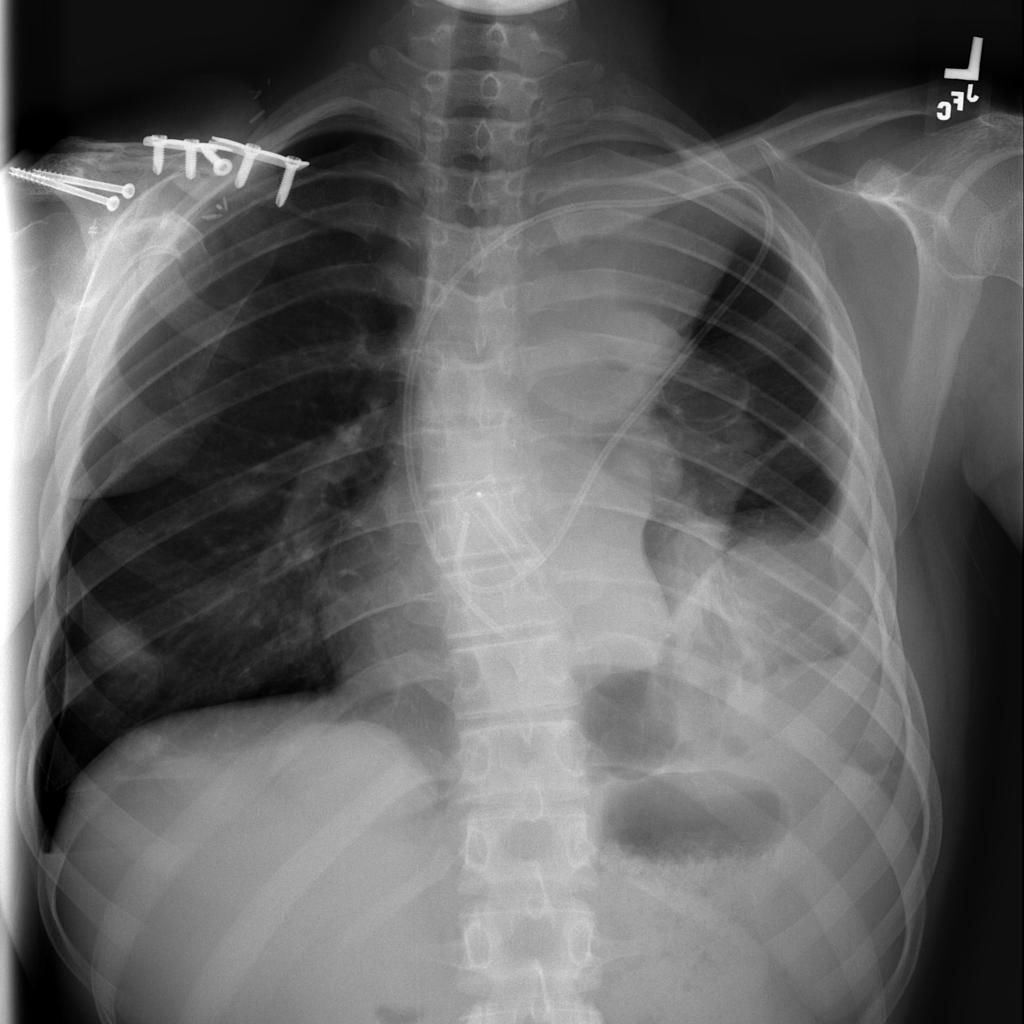nodule: (56, 592, 180, 703)
